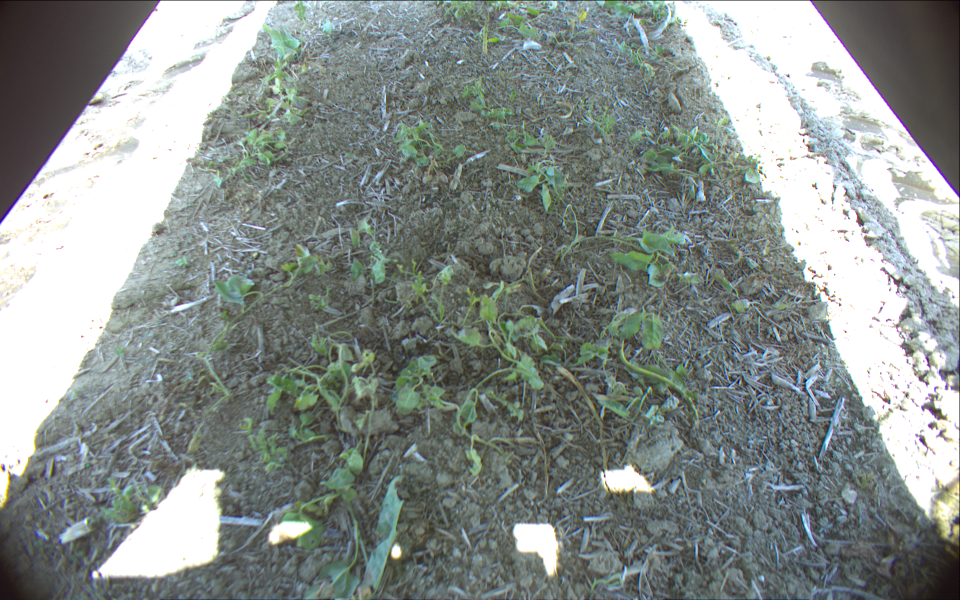aspa: (480, 1, 492, 55)
